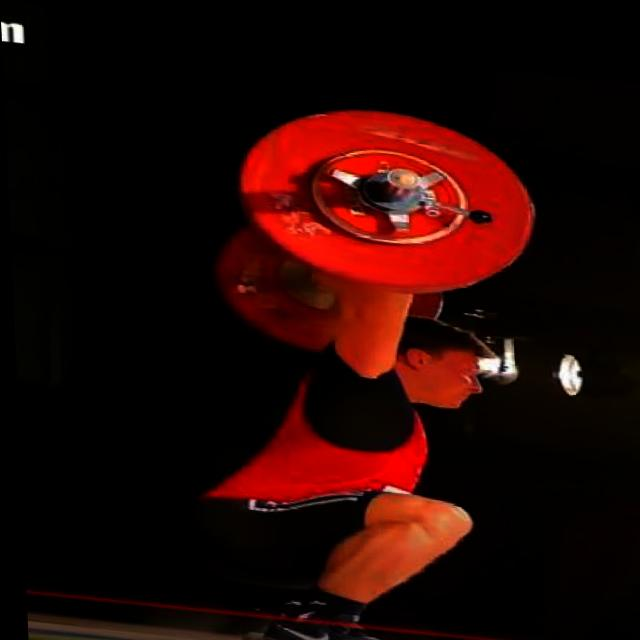barbell: (230, 86, 544, 296)
